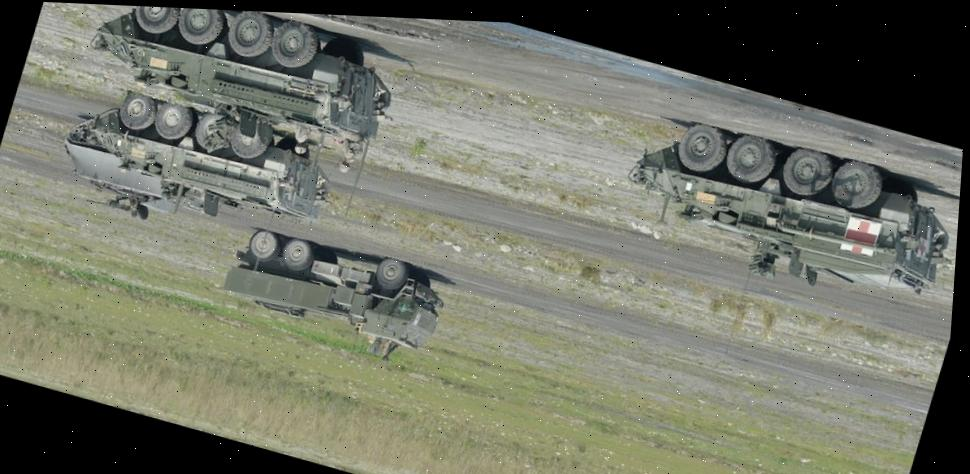armored_car: (604, 101, 965, 323), (43, 66, 352, 269), (67, 3, 412, 181)
truck: (206, 213, 458, 374)
